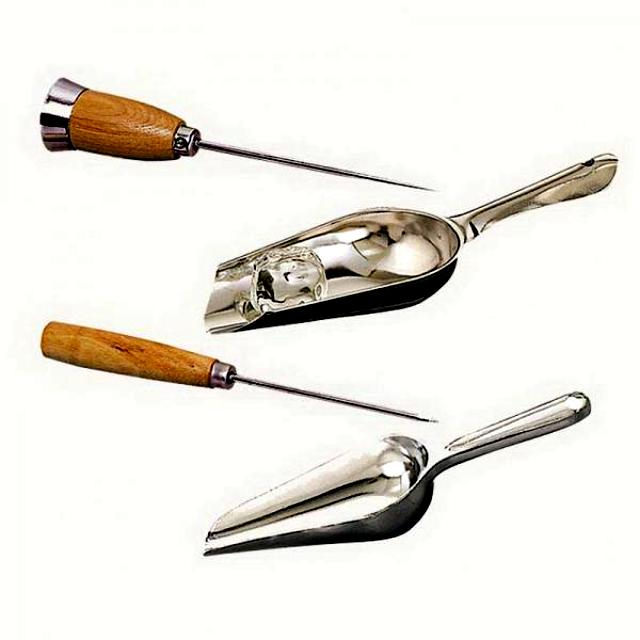ice pick: (40, 78, 438, 192), (39, 320, 437, 422)
